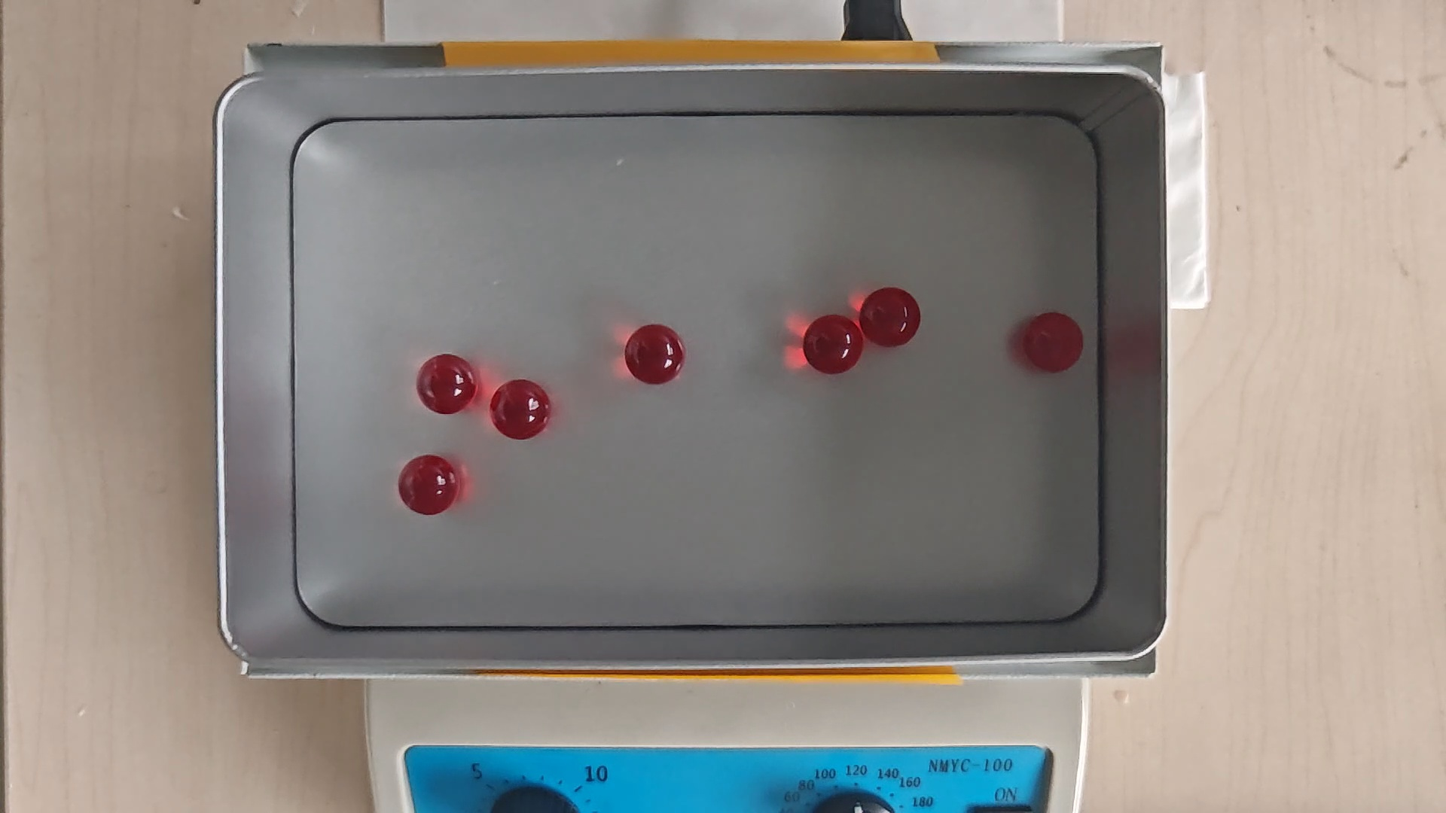ball: (415, 353, 480, 416), (488, 379, 552, 442), (396, 455, 461, 517), (802, 315, 864, 377), (625, 322, 685, 385), (860, 285, 920, 348), (1022, 312, 1082, 373)
container: (291, 111, 1102, 624)
